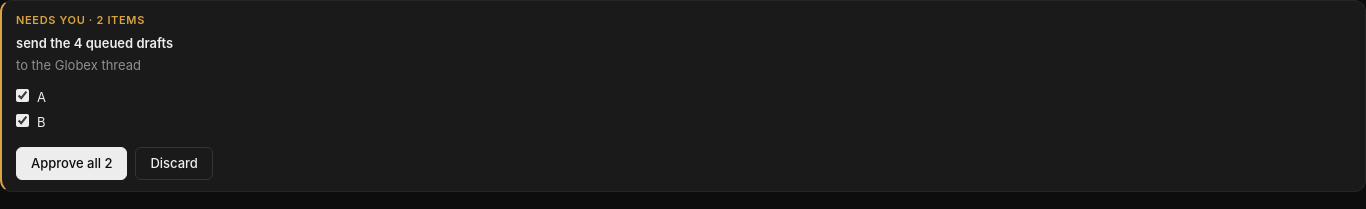
it: ApprovalChip › approves a whole batch without listing it, and will not approve an empty one
The image size is (1366, 209).
What coordinates should you click on to do the following:
click the button "Approve all 2"
I would click on:
 (72, 163)
Its box is x1=16 y1=146 x2=127 y2=180.
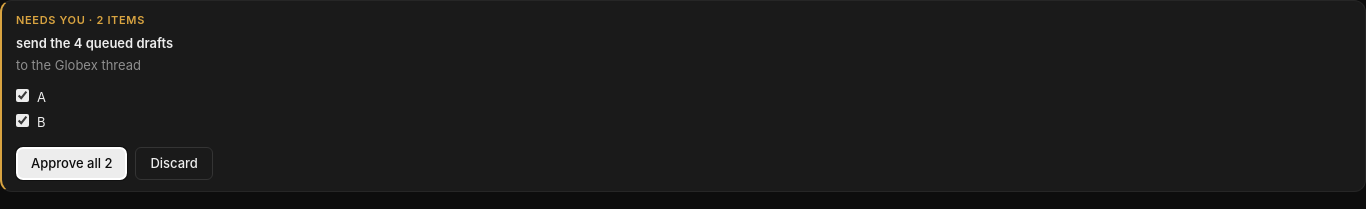
What coordinates should you click on to do the following:
click the checkbox labelled "A"
I would click on:
 (22, 95)
Its box is x1=16 y1=88 x2=29 y2=102.
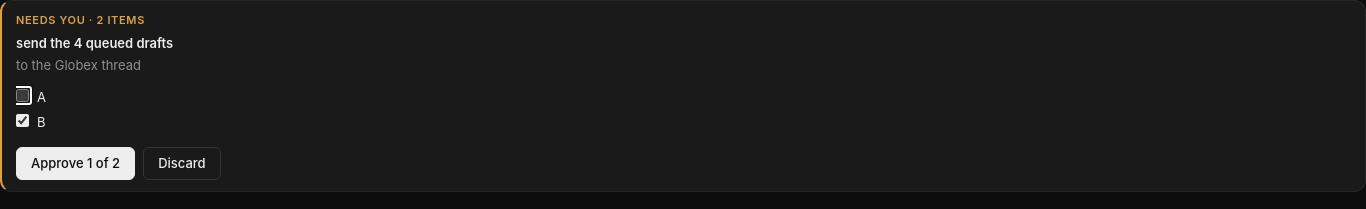
What coordinates should you click on to do the following:
click the checkbox labelled "B"
I would click on:
 (22, 120)
Its box is x1=16 y1=114 x2=29 y2=127.
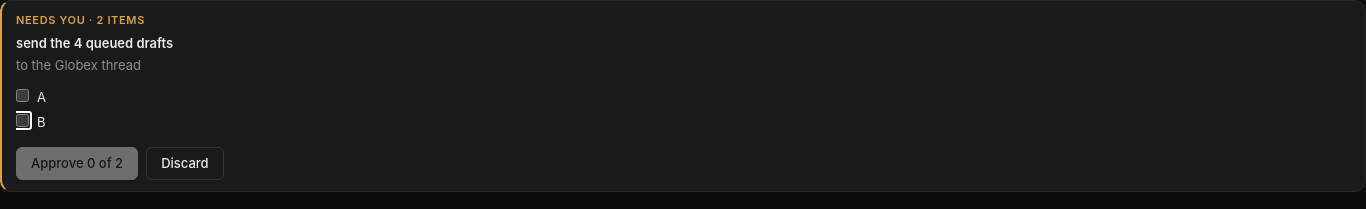
Now the button "Approve 0 of 2" is disabled, box x1=16 y1=146 x2=138 y2=180
